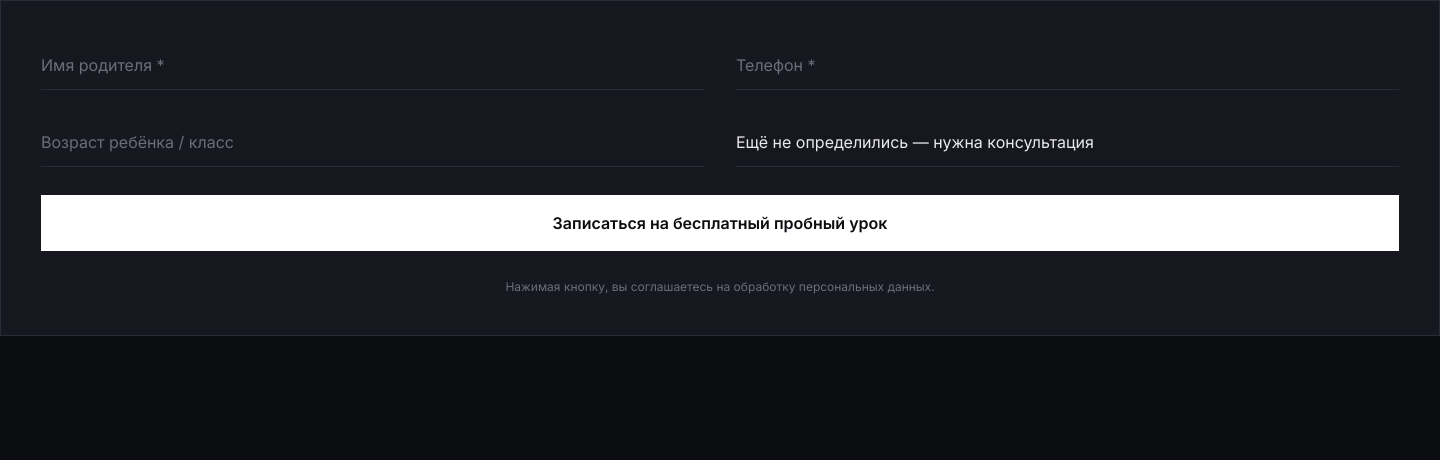
Test: ApplicationForm › показывает текст ошибки от сервера при 422
This screenshot has width=1440, height=460.
In the field with placeholder "Имя родителя *": [372, 66] box top-left (41, 41), bottom-right (704, 90), type "Иван"
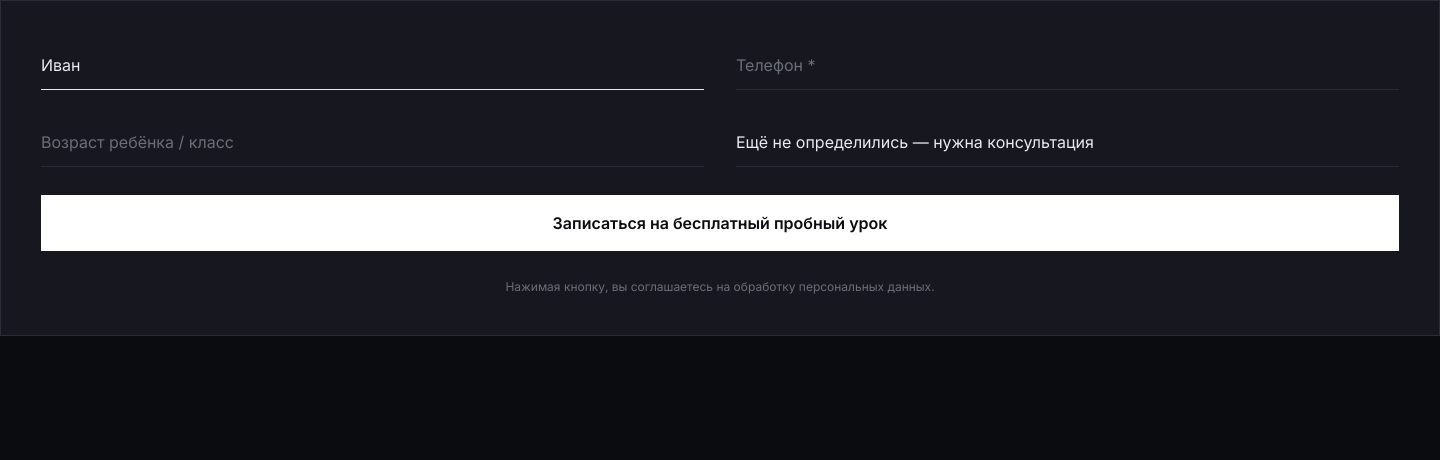
In the field with placeholder "Телефон *": [1068, 66] box top-left (736, 41), bottom-right (1399, 90), type "123"
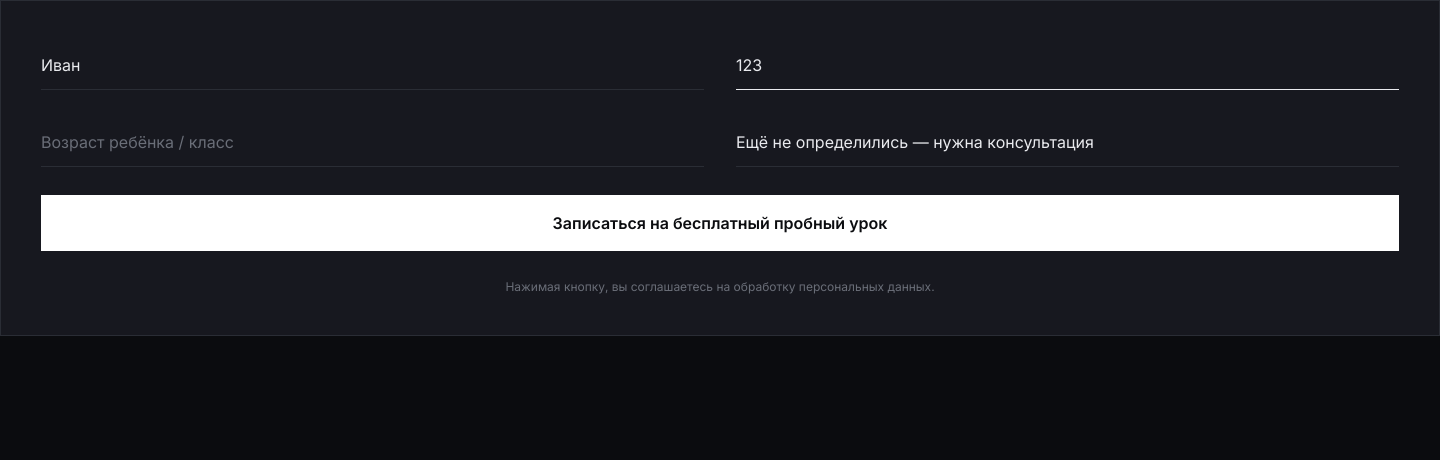
Click the button "Записаться на бесплатный пробный урок": [720, 223] box top-left (41, 195), bottom-right (1399, 251)
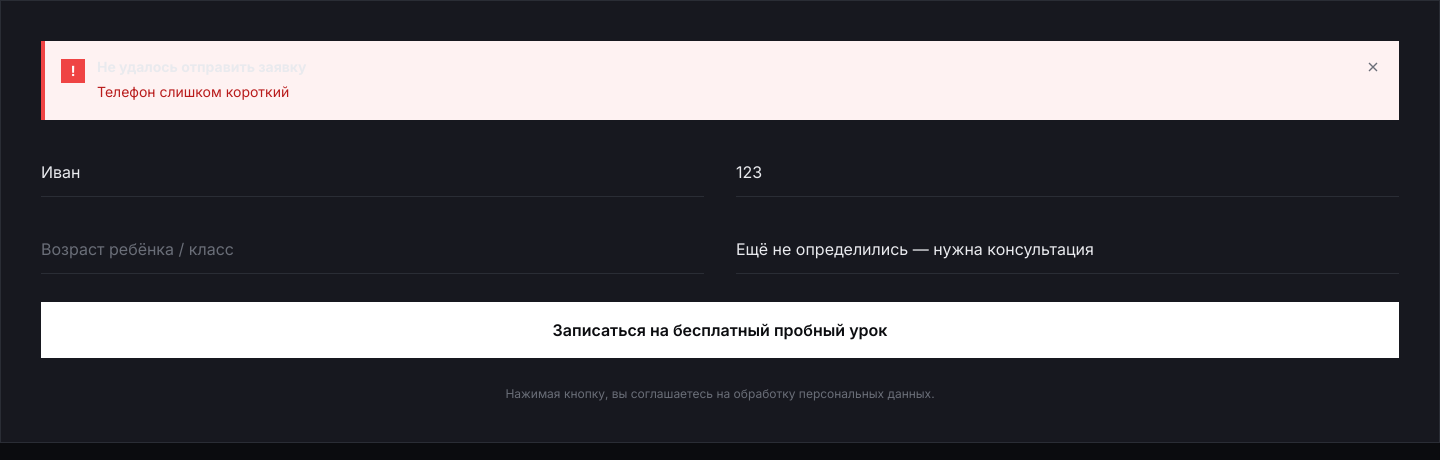
Expected: the text "Телефон слишком короткий" is shown, top-left (97, 83), bottom-right (289, 100)
